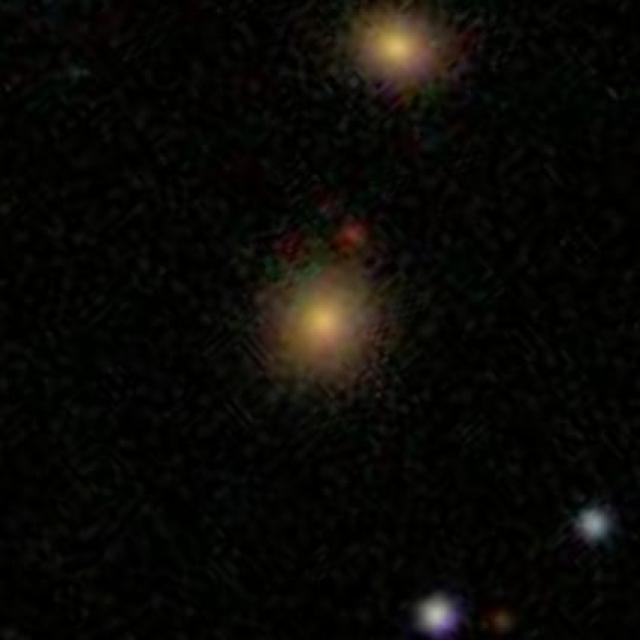galaxy: (220, 244, 428, 435), (319, 1, 486, 112), (411, 589, 466, 639), (570, 504, 616, 550), (331, 215, 374, 260), (490, 608, 513, 633)
